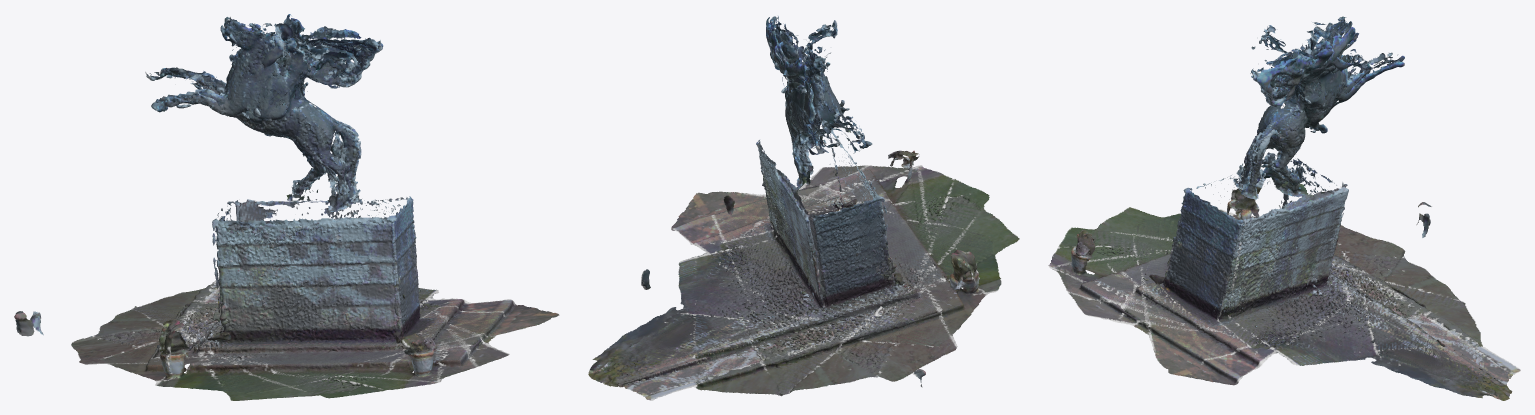
Rendered from diponegoro-monas-n-15.glb.
The picture shows the model from 3 angles, left to right: view 1: azimuth 30°, elevation 25°; view 2: azimuth 150°, elevation 25°; view 3: azimuth 270°, elevation 25°; orthographic projection. The views are drawn at different scales.
Parts seen in each view (by area): view 1: geometry_0; view 2: geometry_0; view 3: geometry_0.
Part boxes in pixels (x1=…): geometry_0: x1=14, y1=14, x2=559, y2=400; geometry_0: x1=588, y1=16, x2=1019, y2=400; geometry_0: x1=1048, y1=16, x2=1520, y2=400.
Bounding box in the file's own units: 1.18 × 0.9795 × 1.33.
